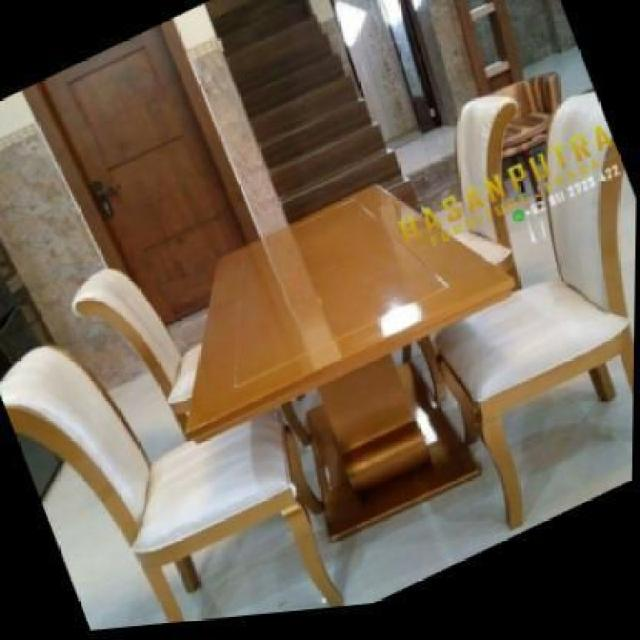tables: (183, 182, 515, 518)
